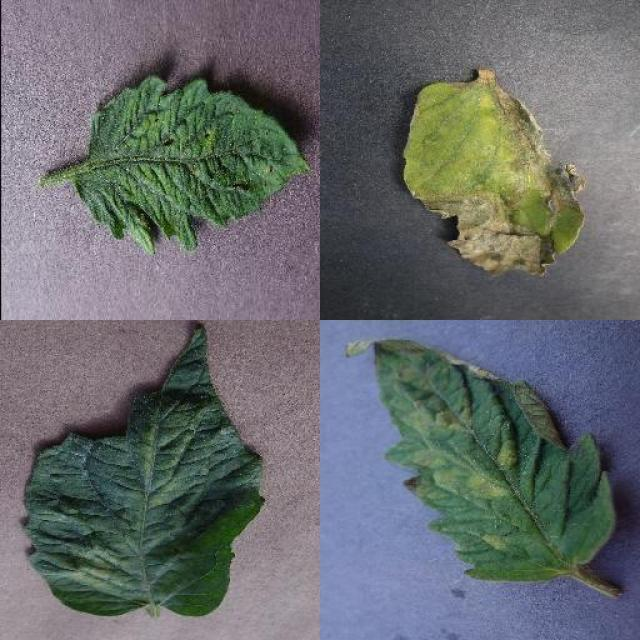Late Blight: (401, 72, 589, 278)
